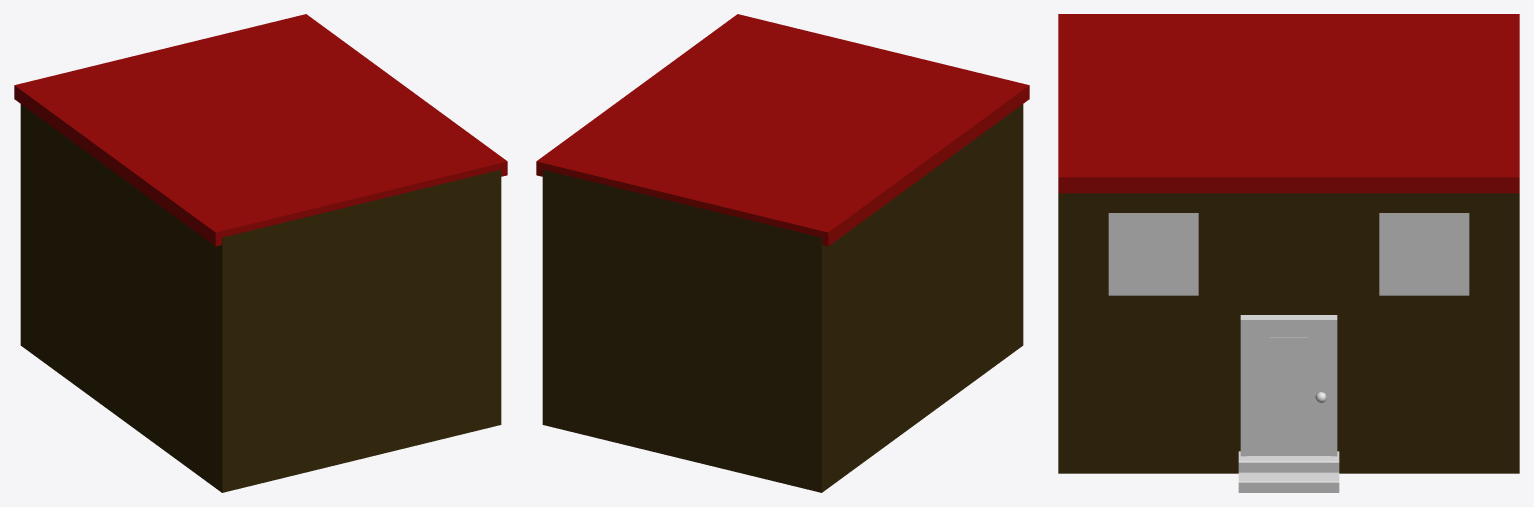
The model's file is Huis3.fbx.
3 renders of one model, left to right at view 1: azimuth 30°, elevation 25°; view 2: azimuth 150°, elevation 25°; view 3: azimuth 270°, elevation 25°, orthographic. The views are drawn at different scales.
Parts seen in each view (by area): view 1: Cube.035, Cube.036; view 2: Cube.035, Cube.036; view 3: Cube.035, Cube.036, Cube.039, Plane.010, Plane.012, Cube.038, Cube.037, Plane.011.
Boxes of the visible parts, left/top/right/bottom form: Cube.035: left=20, top=104, right=501, bottom=492; Cube.036: left=14, top=14, right=507, bottom=246; Cube.035: left=542, top=104, right=1023, bottom=492; Cube.036: left=536, top=14, right=1029, bottom=246; Cube.035: left=1058, top=193, right=1519, bottom=473; Cube.036: left=1058, top=14, right=1519, bottom=193; Cube.039: left=1247, top=325, right=1330, bottom=455; Plane.010: left=1108, top=213, right=1198, bottom=295; Plane.012: left=1379, top=213, right=1469, bottom=295; Cube.038: left=1238, top=451, right=1339, bottom=492; Cube.037: left=1240, top=315, right=1337, bottom=456; Plane.011: left=1270, top=337, right=1307, bottom=372.
Size of the model in its own units: 183 by 144 by 200.
